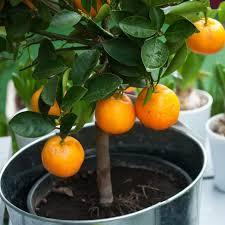orange: (133, 82, 176, 128), (43, 129, 86, 169), (97, 91, 136, 133), (191, 15, 225, 52)
